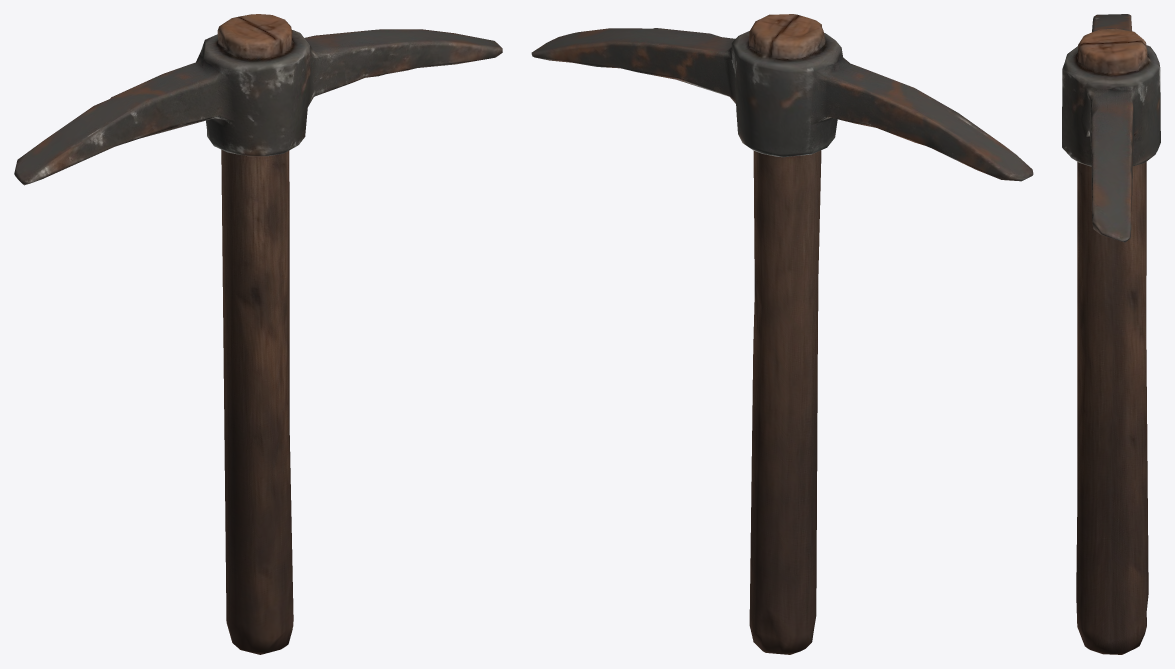
File: 1503_hammer.glb
3 renders of one model, left to right at view 1: azimuth 30°, elevation 25°; view 2: azimuth 150°, elevation 25°; view 3: azimuth 270°, elevation 25°, orthographic. The views are drawn at different scales.
Parts seen in each view (by area): view 1: Model; view 2: Model; view 3: Model.
Boxes of the visible parts, bbox=[...] form: Model: bbox=[14, 14, 502, 654]; Model: bbox=[531, 14, 1033, 654]; Model: bbox=[1062, 14, 1160, 654].
Size of the model in its own units: 0.8267 by 1 by 0.1487.
Materials: 1 (1 with a texture image).
